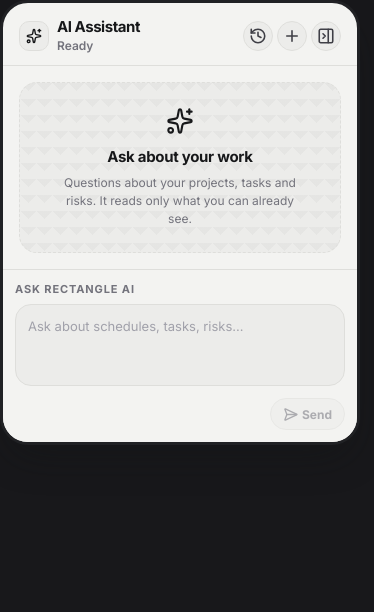
Test case: AiAssistantPanel: proposed changes wait for a person › shows the arguments verbatim rather than a sentence about them
Expected: the text "Ready" is shown, 57,38 -> 93,52
Type "add a task" into the text box labelled "Ask Rectangle AI" at coordinates (180, 345), box 15,304 -> 345,386
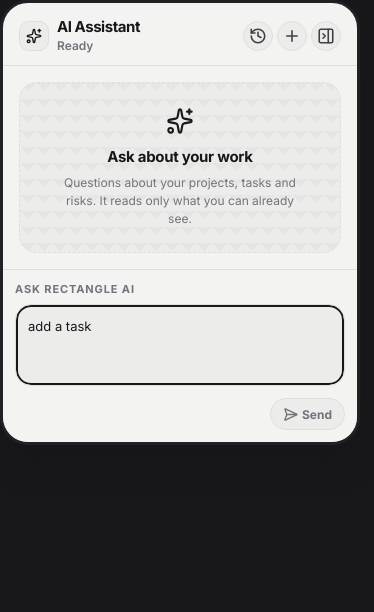
Click the button "Send" at coordinates (308, 414), box 270,398 -> 345,430
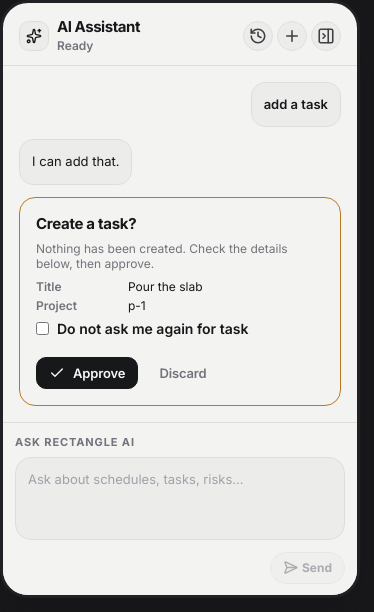
Expected: the text "Pour the slab" is shown, 128,278 -> 202,294
Expected: the text "p-1" is shown, 128,298 -> 146,312
